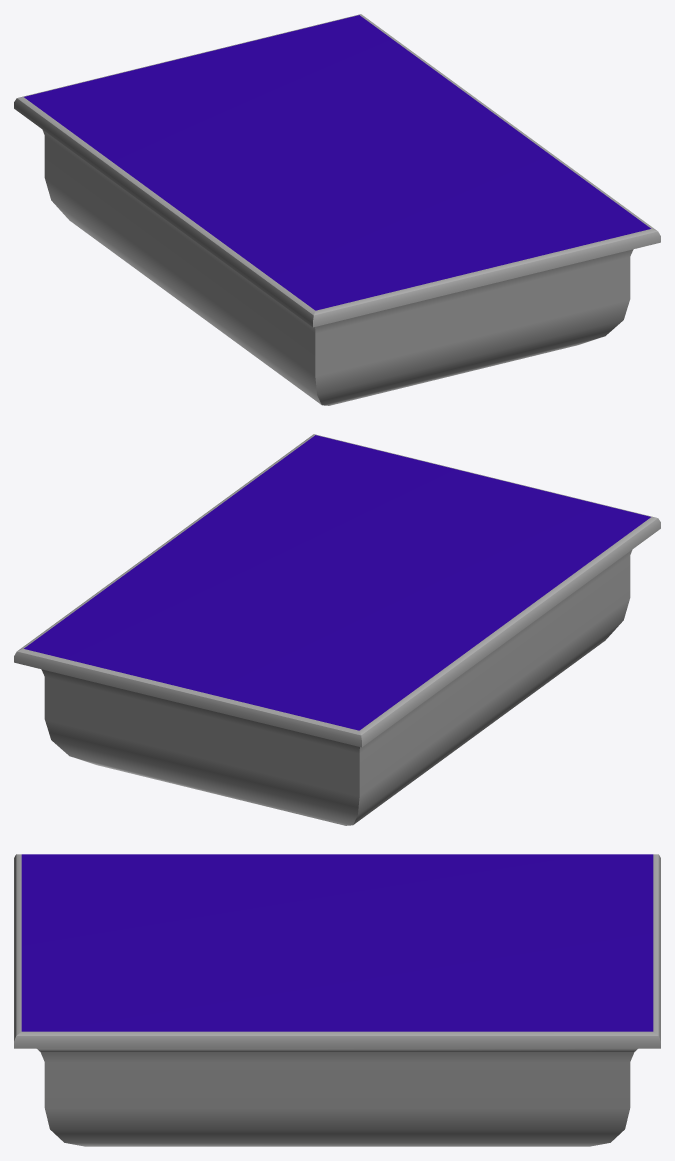
File: macromeal.fbx
3 renders of one model, top to bottom at view 1: azimuth 30°, elevation 25°; view 2: azimuth 150°, elevation 25°; view 3: azimuth 270°, elevation 25°, orthographic. The views are drawn at different scales.
Parts seen in each view (by area): view 1: pCube14; view 2: pCube14; view 3: pCube14.
Boxes of the visible parts, x1,y1,x2,y2 form: pCube14: (14,14,660,405); pCube14: (14,434,660,825); pCube14: (14,854,660,1146).
Size of the model in its own units: 3.77 by 1.36 by 5.61.
